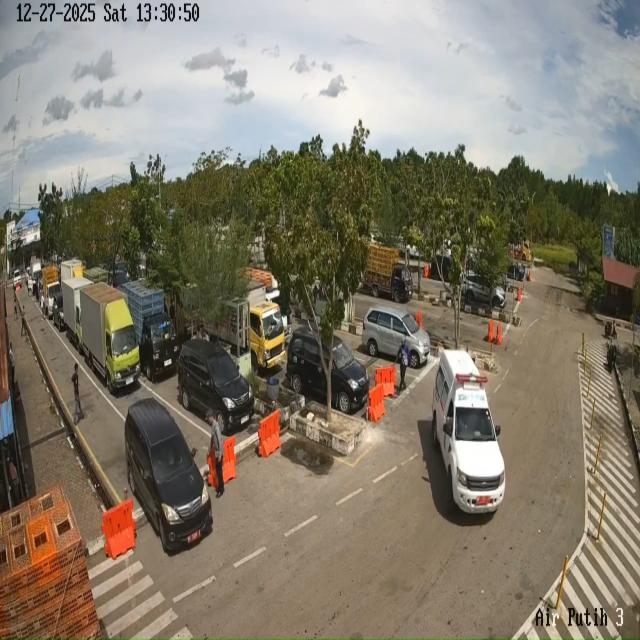Golongan IVA: (125, 398, 212, 552), (432, 350, 505, 513), (177, 339, 255, 435), (286, 327, 369, 414), (362, 306, 431, 368), (462, 272, 506, 308), (506, 263, 526, 282)
Golongan IVB: (119, 304, 179, 382), (362, 243, 413, 303), (42, 266, 61, 318)
Golongan VB: (80, 283, 140, 394), (61, 277, 93, 352)
